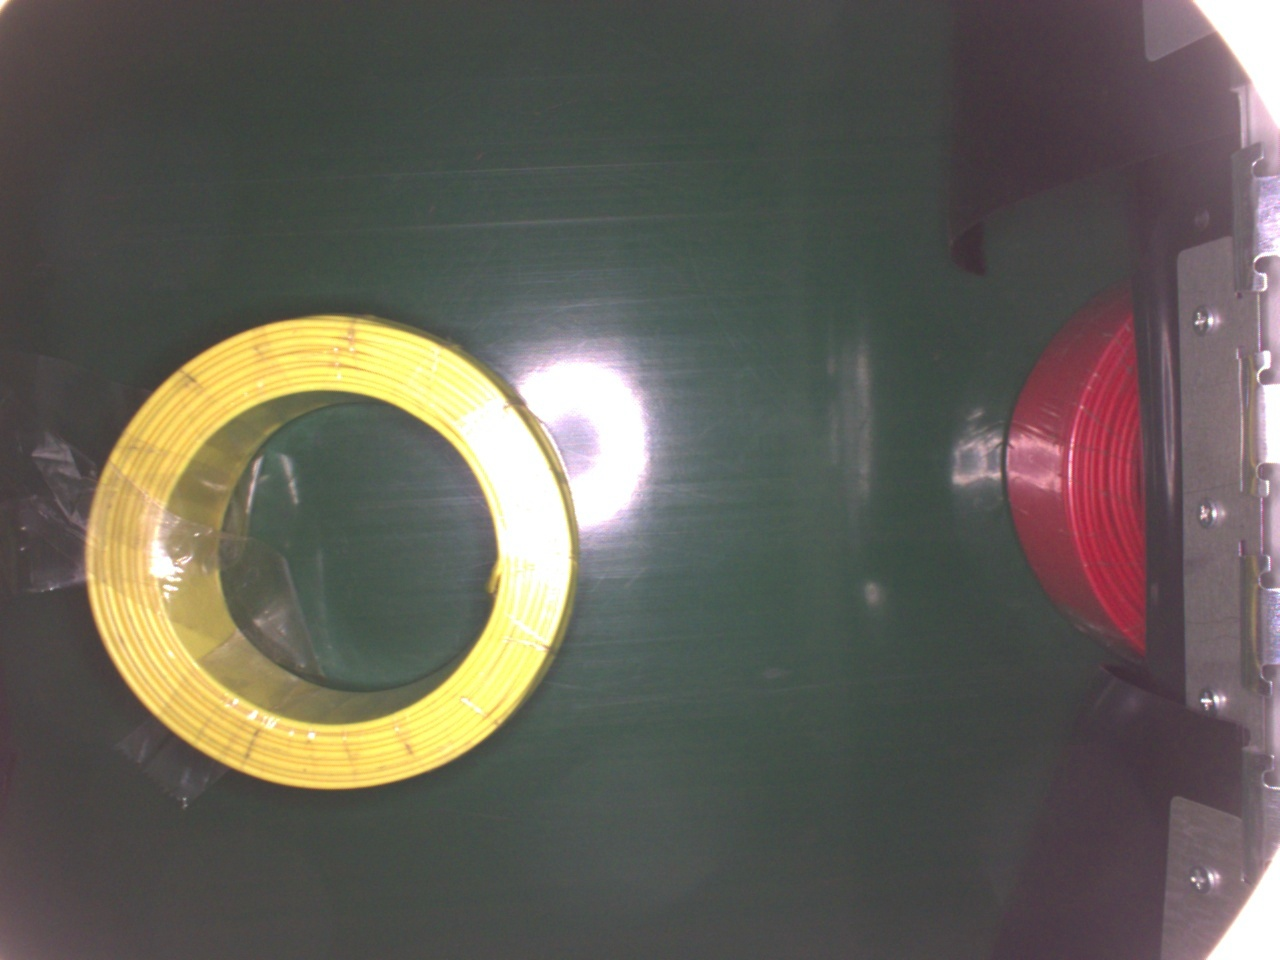red: (1003, 270, 1157, 649)
yellow: (83, 307, 579, 795)
